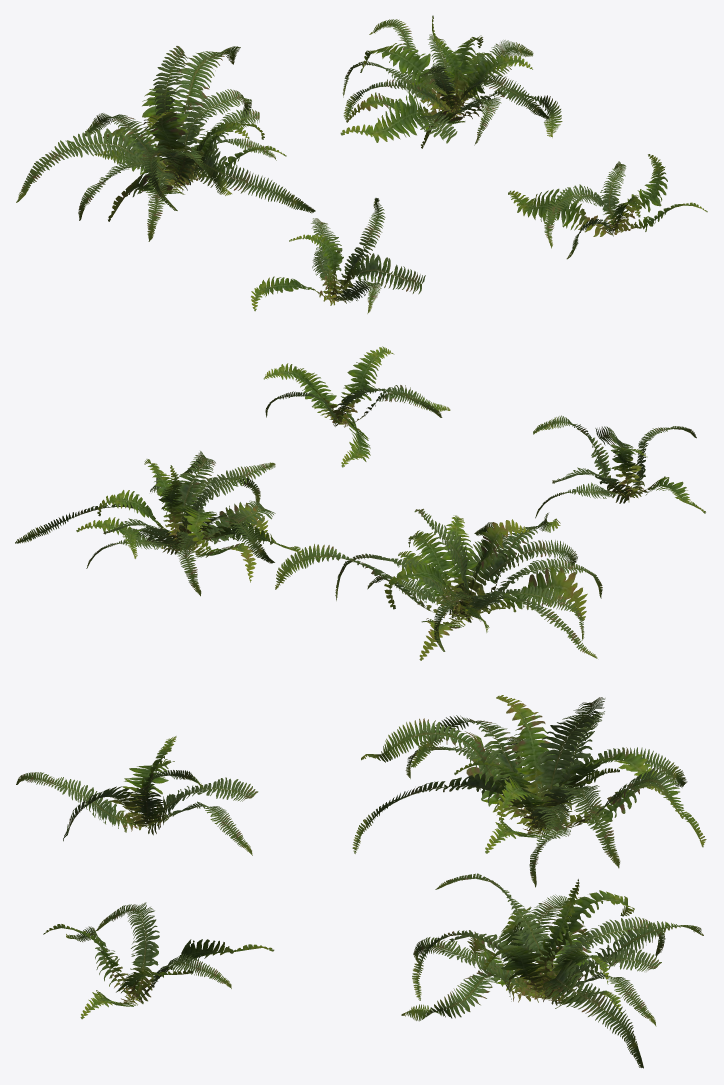
Rendered from fern_02.glb.
3 views of the same model, one above another, from view 1: azimuth 30°, elevation 25°; view 2: azimuth 150°, elevation 25°; view 3: azimuth 270°, elevation 25° (orthographic). The views are drawn at different scales.
Visible parts, largest first — view 1: fern_02_b; view 2: fern_02_b; view 3: fern_02_b.
Part boxes in pixels (left/top/right/bottom): fern_02_b: left=16, top=15, right=707, bottom=313; fern_02_b: left=15, top=346, right=705, bottom=660; fern_02_b: left=16, top=695, right=706, bottom=1068.
Size of the model in its own units: 1.97 by 0.4277 by 1.72.
1 material, 1 textured.
